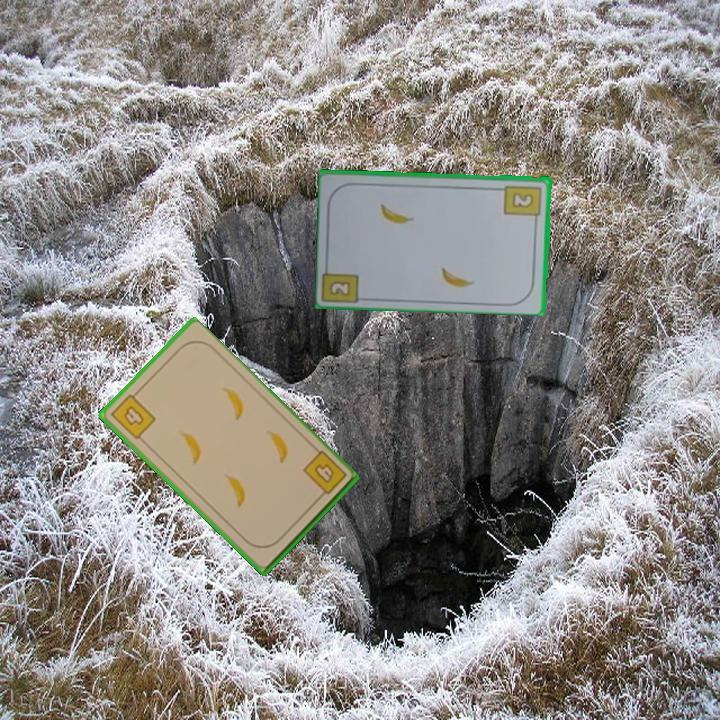2b: (502, 181, 544, 224), (326, 277, 353, 299)
4b: (107, 387, 159, 442), (299, 447, 350, 503)
